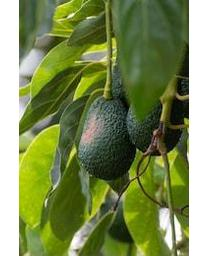avocado: (78, 96, 134, 180)
